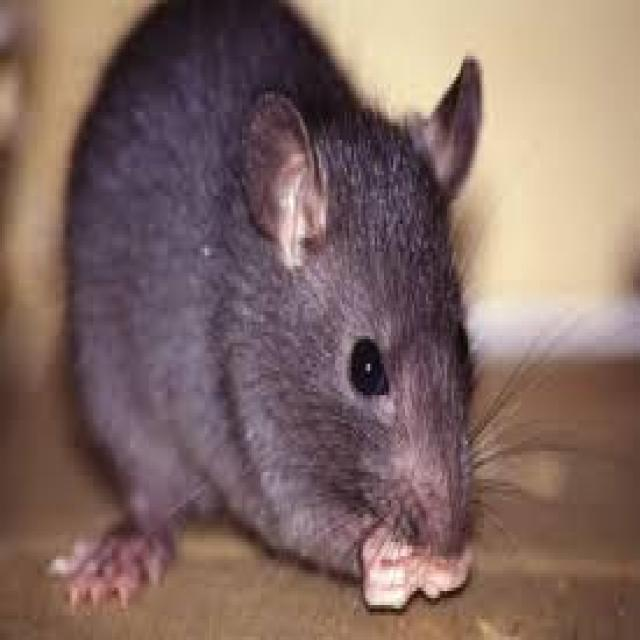rat: (57, 10, 494, 616)
